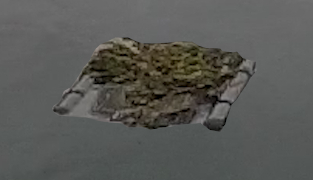bag: (51, 34, 258, 135)
